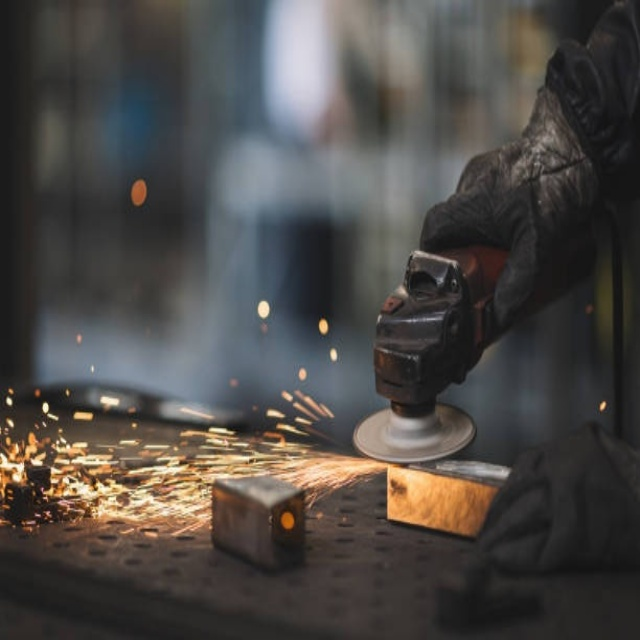Guantes: (413, 67, 607, 326), (473, 422, 635, 576)
